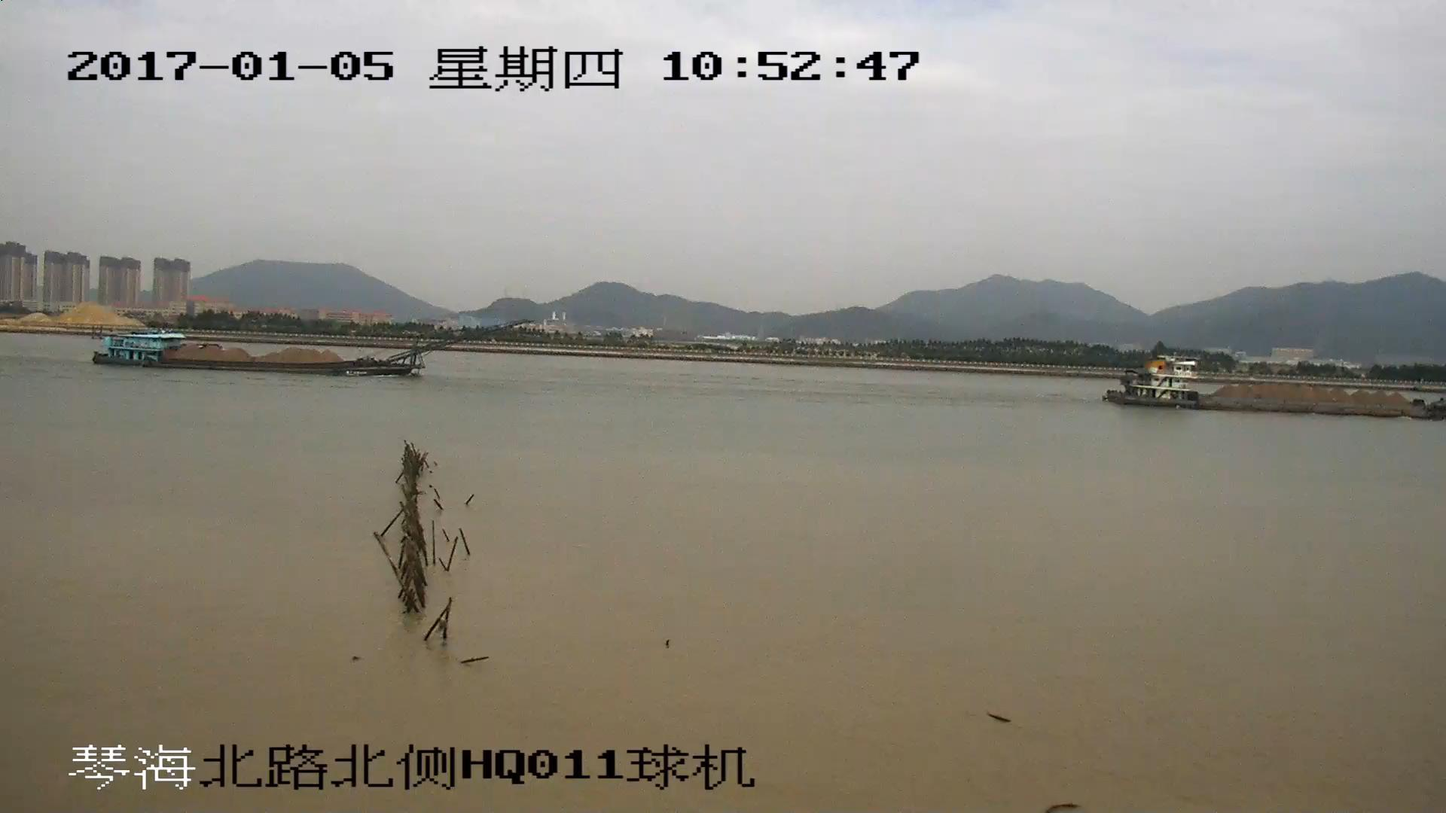ore carrier: (93, 317, 525, 368), (1105, 356, 1445, 414)
